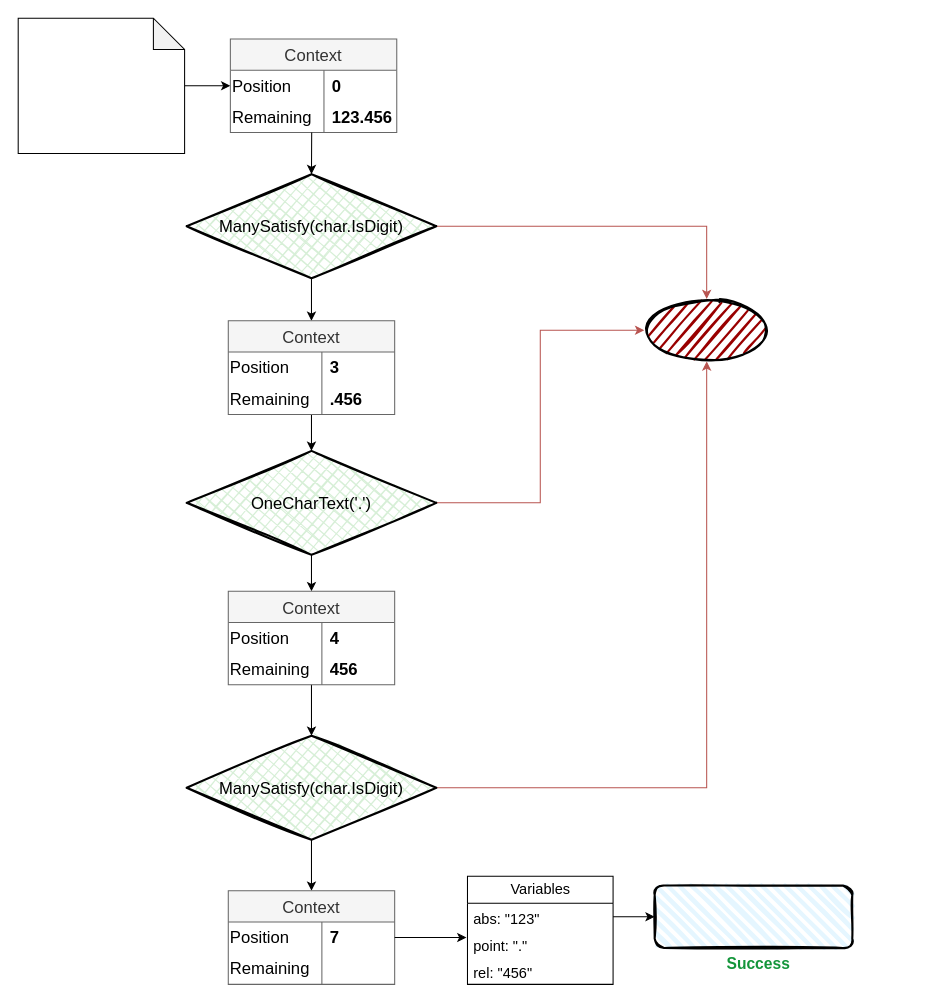
Image size: 925x1006. Some labels were removed from this diagram. Here are the shapes that lost their labels. From the top down, the centre of each, then its label:
At point (101, 85): "Input text 123.456".
At point (706, 329): "If one parser fails then entire combined parser fails".
At point (753, 916): "Map to JsonDecimalValue".
